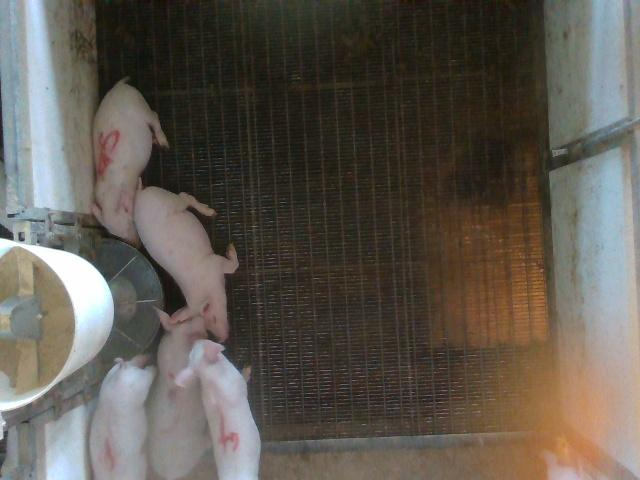pig-1: (89, 355, 156, 479)
pig-3: (146, 310, 211, 479)
pig-4: (175, 340, 261, 478)
pig-5: (91, 78, 169, 246)
